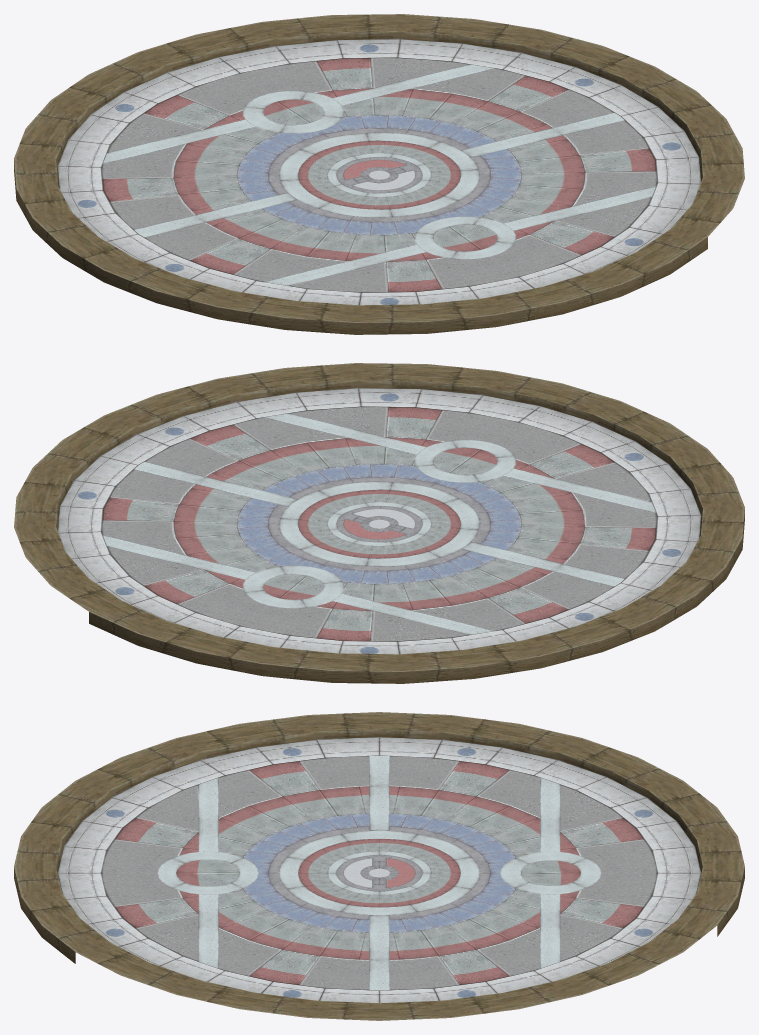
Rendered from cen_wood.obj.
3 views of the same model, one above another, from view 1: azimuth 30°, elevation 25°; view 2: azimuth 150°, elevation 25°; view 3: azimuth 270°, elevation 25° (orthographic).
Parts seen in each view (by area): view 1: cen_wood_1_0, center000_3, center000_4, center000_1, center000_0, center000_2, center000_6, center003_1, center000_5, center003_0, platform_1, platform_5 (+1 smaller); view 2: cen_wood_1_0, center000_3, center000_4, center000_1, center000_0, center000_2, center000_6, center003_1, center000_5, center003_0, platform_1, platform_2 (+1 smaller); view 3: cen_wood_1_0, center000_3, center000_4, center000_1, center000_0, center000_2, center000_6, center003_1, center000_5, center003_0, platform_1, platform_5 (+1 smaller).
Part boxes in pixels (x1,y1,x2,y2): cen_wood_1_0: [14, 14, 744, 334]; center000_3: [102, 58, 656, 292]; center000_4: [101, 57, 657, 292]; center000_1: [57, 39, 700, 305]; center000_0: [103, 64, 655, 285]; center000_2: [237, 115, 521, 234]; center000_6: [62, 39, 698, 305]; center003_1: [298, 140, 460, 209]; center000_5: [268, 128, 490, 221]; center003_0: [327, 153, 431, 196]; platform_1: [336, 157, 422, 193]; platform_5: [353, 170, 415, 190]; cen_wood_1_0: [14, 363, 744, 683]; center000_3: [102, 407, 656, 641]; center000_4: [101, 406, 657, 641]; center000_1: [58, 388, 701, 654]; center000_0: [103, 413, 655, 634]; center000_2: [237, 464, 521, 583]; center000_6: [60, 388, 696, 654]; center003_1: [298, 489, 460, 558]; center000_5: [268, 477, 490, 570]; center003_0: [327, 502, 431, 545]; platform_1: [336, 506, 422, 542]; platform_2: [343, 519, 405, 539]; cen_wood_1_0: [14, 712, 744, 1020]; center000_3: [115, 761, 643, 984]; center000_4: [101, 756, 657, 989]; center000_1: [57, 737, 701, 1003]; center000_0: [157, 755, 601, 990]; center000_2: [243, 813, 515, 932]; center000_6: [82, 739, 676, 1000]; center003_1: [298, 839, 460, 907]; center000_5: [268, 826, 490, 919]; center003_0: [328, 851, 430, 894]; platform_1: [336, 855, 422, 890]; platform_5: [343, 858, 372, 887].
Size of the model in its own units: 708 by 12.75 by 708.
Materials: 16 (16 with a texture image).
